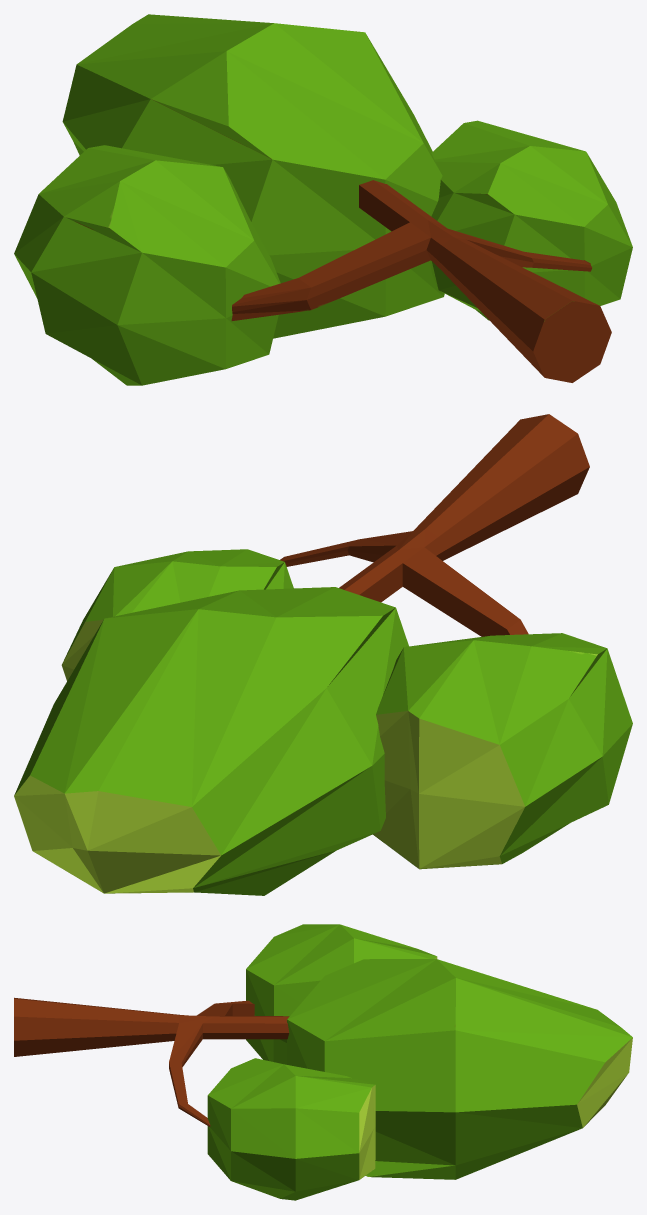
File: tree-01.obj
3 views of the same model, one above another, from view 1: azimuth 30°, elevation 25°; view 2: azimuth 150°, elevation 25°; view 3: azimuth 270°, elevation 25° (orthographic). The views are drawn at different scales.
Visible parts, largest first — view 1: tree-01_Cube.054; view 2: tree-01_Cube.054; view 3: tree-01_Cube.054.
Boxes of the visible parts, x1,y1,x2,y2 form: tree-01_Cube.054: (14,14,632,385); tree-01_Cube.054: (14,414,632,895); tree-01_Cube.054: (14,924,632,1200).
Bounding box in the file's own units: 8.87 × 4.2 × 12.61.
